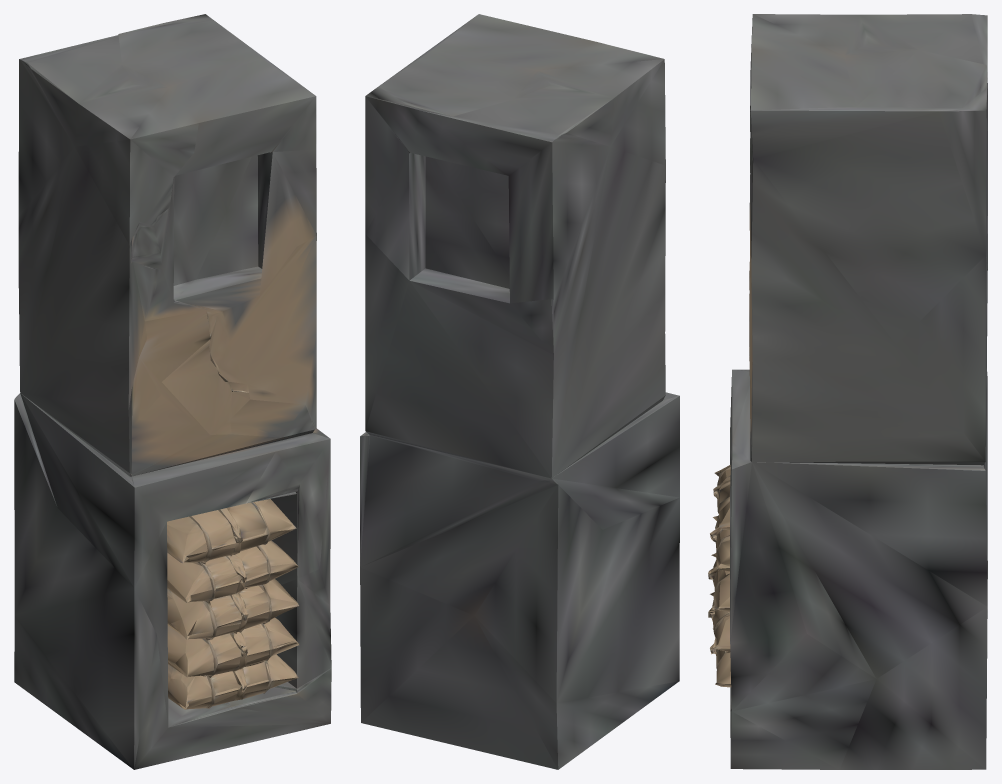
The model's file is cover_full_plains_v1.glb.
3 renders of one model, left to right at view 1: azimuth 30°, elevation 25°; view 2: azimuth 150°, elevation 25°; view 3: azimuth 270°, elevation 25°, orthographic. The views are drawn at different scales.
Size of the model in its own units: 0.6112 by 1.85 by 0.7123.
Materials: 1 (1 with a texture image).
